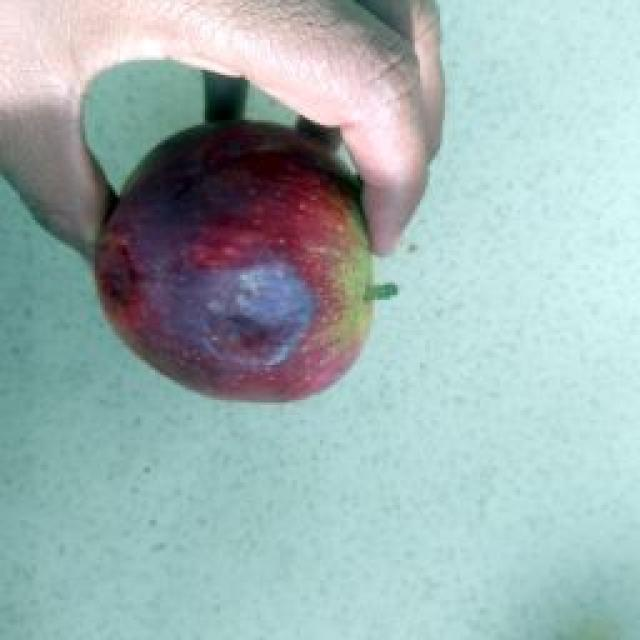Bad_Apple: (95, 121, 384, 399)
